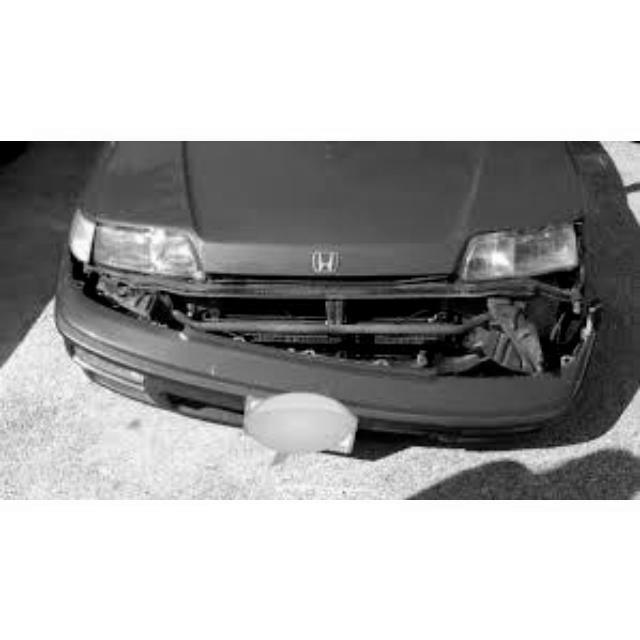front-bumper-dent: (114, 295, 593, 434)
